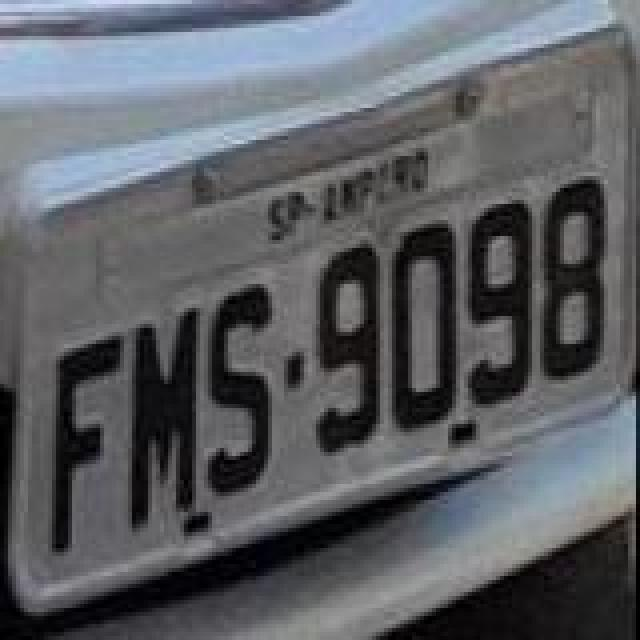8: (540, 174, 608, 386)
9: (314, 240, 386, 456), (468, 198, 536, 410)
F: (50, 326, 122, 554)
M: (130, 304, 202, 536)
O: (386, 220, 458, 436)
S: (206, 284, 278, 500)
